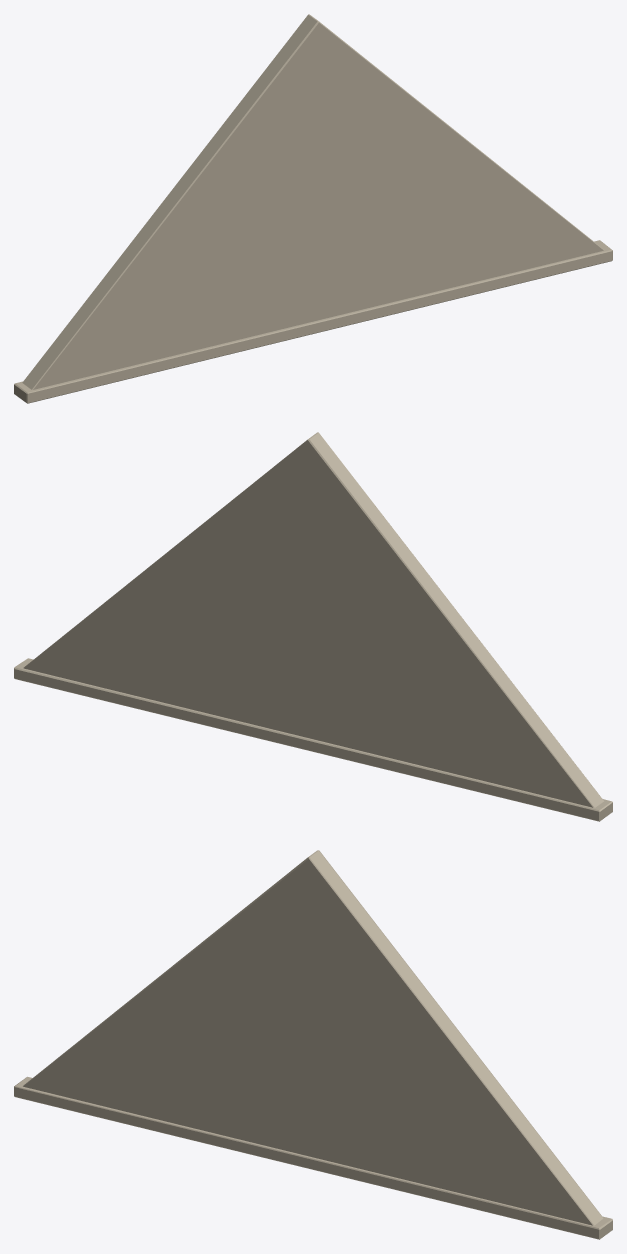
The model's file is gable_r16.fbx.
3 renders of one model, top to bottom at view 1: azimuth 30°, elevation 25°; view 2: azimuth 150°, elevation 25°; view 3: azimuth 330°, elevation 25°, orthographic.
Parts seen in each view (by area): view 1: gable_r16; view 2: gable_r16; view 3: gable_r16.
Part boxes in pixels (bbox=[...]): gable_r16: bbox=[14, 14, 612, 403]; gable_r16: bbox=[14, 432, 612, 821]; gable_r16: bbox=[14, 850, 612, 1239].
Bounding box in the file's own units: 3240 × 1636 × 130.
